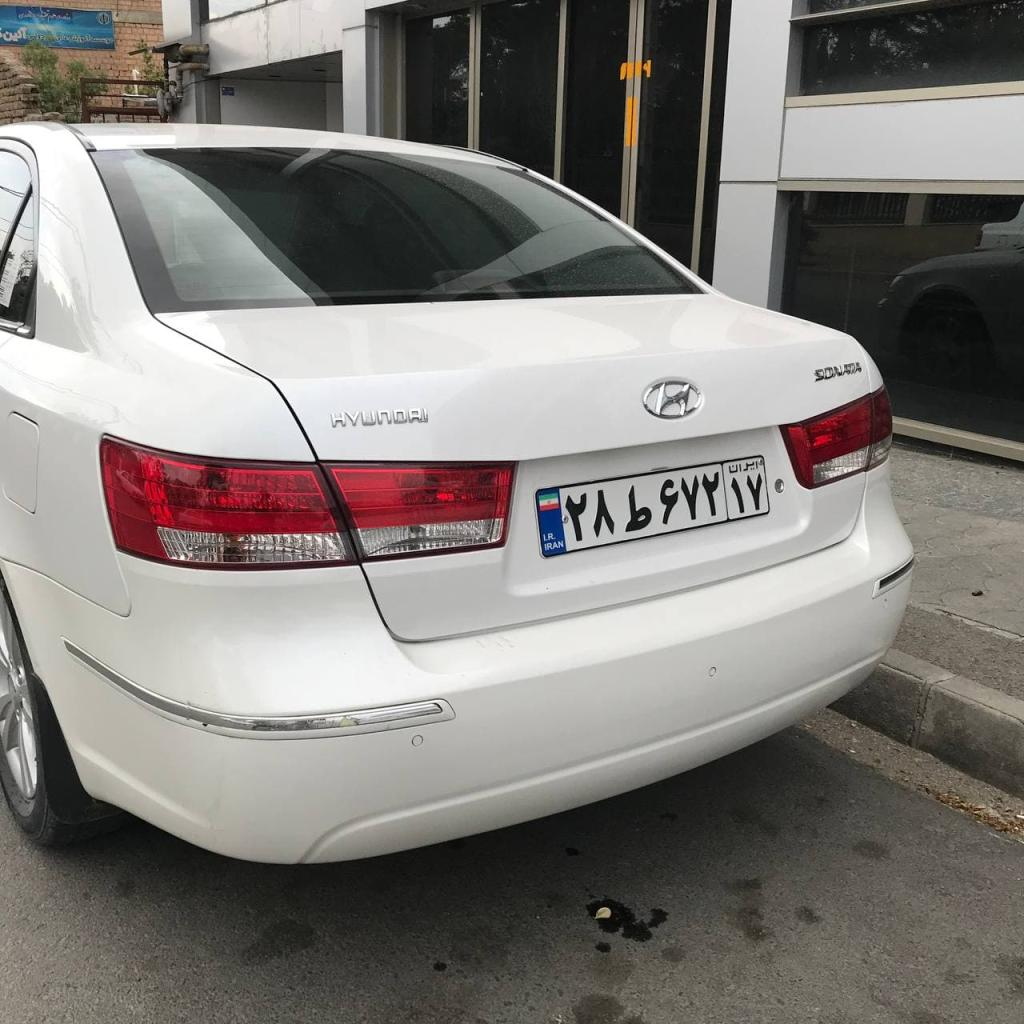Plates: (535, 455, 769, 558)
